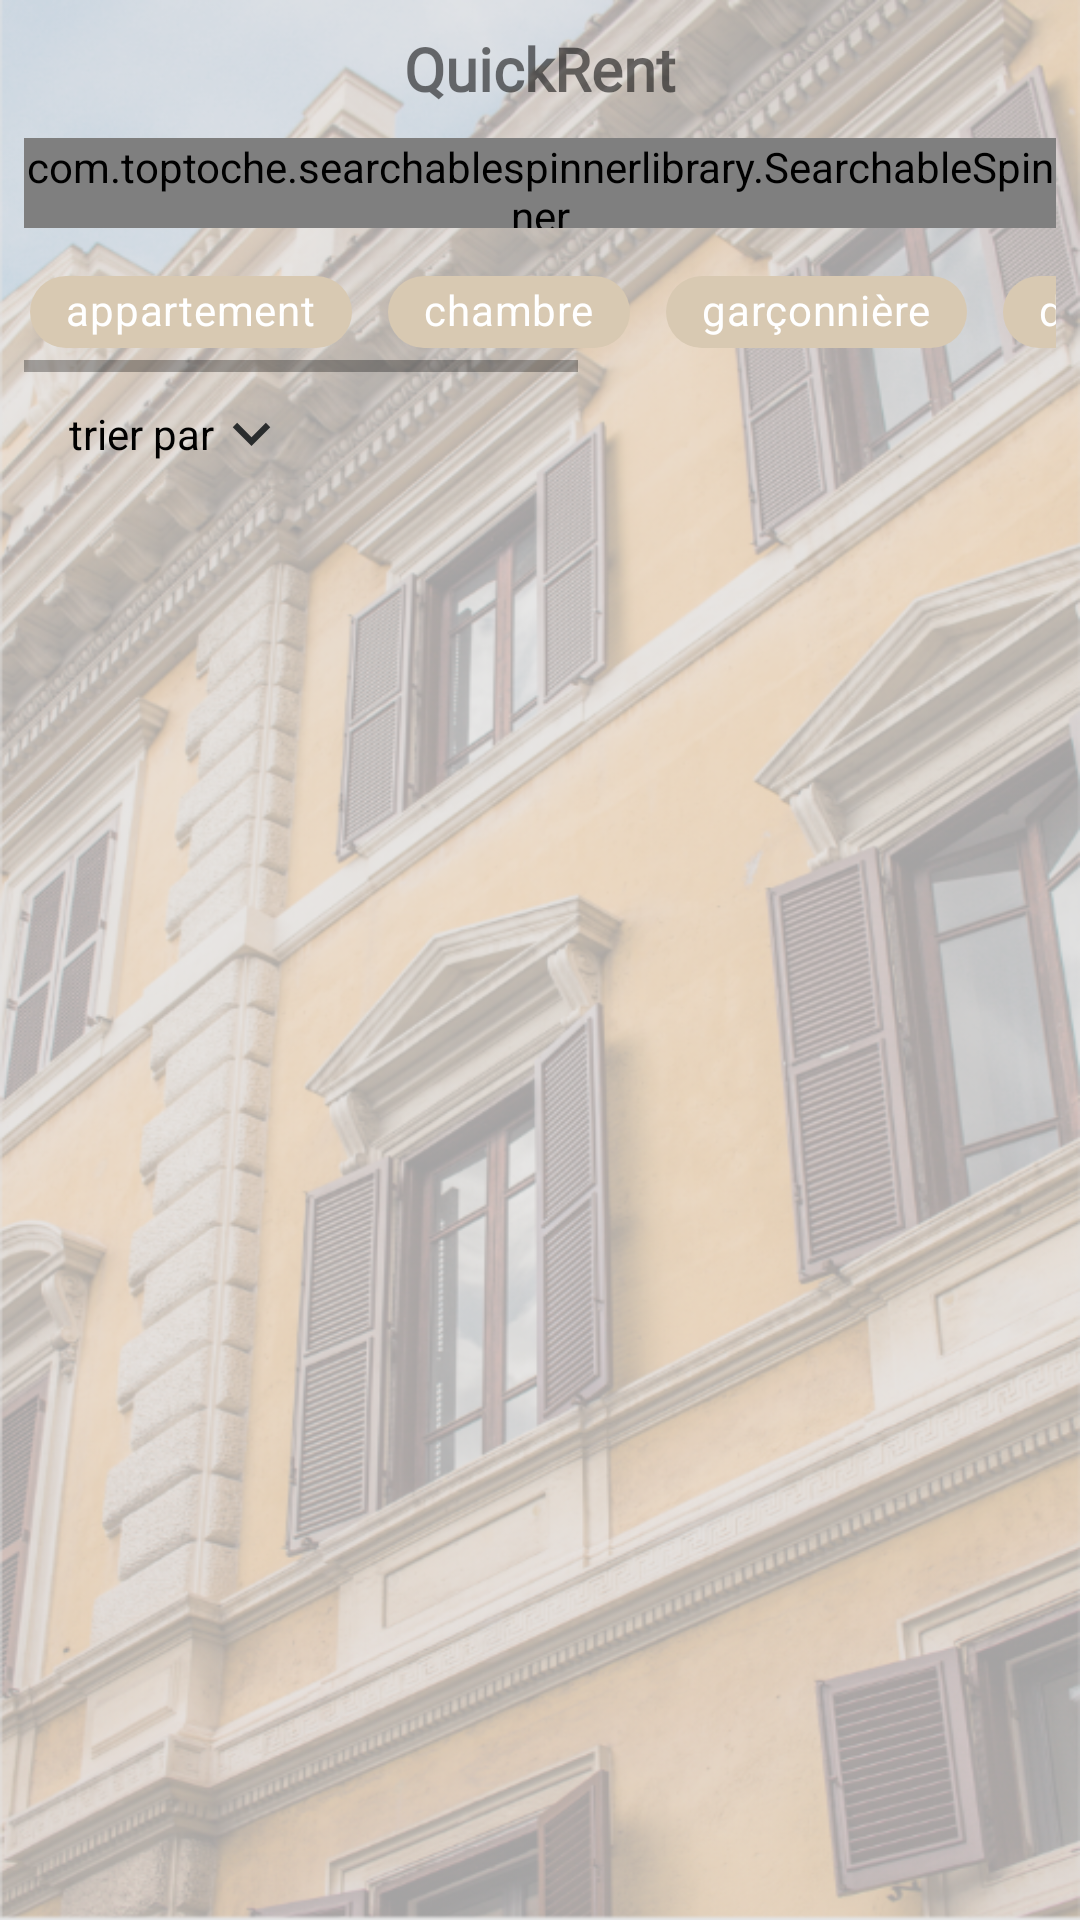

Screen size 1080x1920. Icon name, then its box in pixels as (x1, y1, x2, y2):
more: (233, 423, 270, 446)
